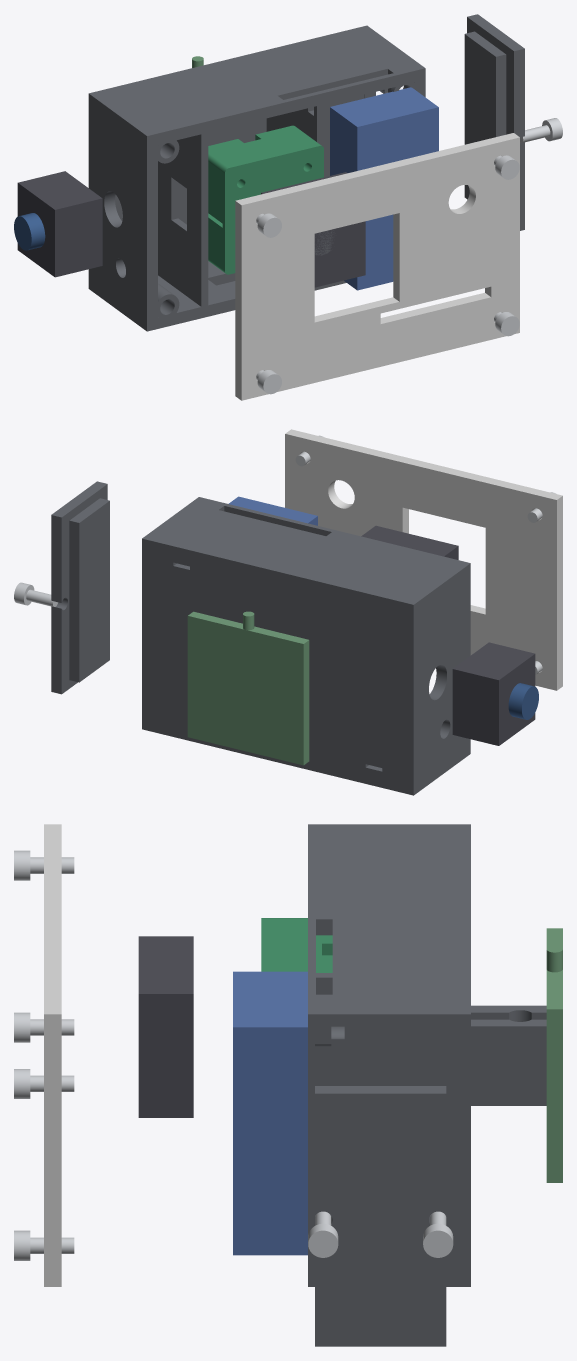
The model's file is sender_exploded.glb.
3 renders of one model, top to bottom at view 1: azimuth 30°, elevation 25°; view 2: azimuth 150°, elevation 25°; view 3: azimuth 270°, elevation 25°, orthographic. The views are drawn at different scales.
Parts seen in each view (by area): view 1: o1.2.1, o1.1, o1.10.1, o1.7, o1.3, o1.5.1, o1.8.1, o1.6.1, o1.17, o1.13, o1.16, o1.14 (+1 smaller); view 2: o1.1, o1.2.1, o1.4, o1.3, o1.5.1, o1.8.1, o1.6.1, o1.10.1, o1.18; view 3: o1.1, o1.3, o1.10.1, o1.8.1, o1.2.1, o1.4, o1.7, o1.18, o1.17, o1.14, o1.16, o1.15 (+1 smaller).
Boxes of the visible parts, box(x1,y1,x2,y2) form: o1.2.1: box(235, 133, 519, 400); o1.1: box(88, 25, 425, 331); o1.10.1: box(330, 87, 438, 290); o1.7: box(208, 125, 323, 274); o1.3: box(464, 14, 524, 230); o1.5.1: box(17, 171, 102, 277); o1.8.1: box(261, 172, 365, 287); o1.6.1: box(14, 213, 45, 250); o1.17: box(520, 118, 562, 142); o1.13: box(256, 370, 281, 394); o1.16: box(494, 155, 519, 179); o1.14: box(256, 213, 281, 237); o1.1: box(142, 497, 470, 795); o1.2.1: box(285, 429, 562, 690); o1.4: box(187, 611, 309, 765); o1.3: box(51, 481, 109, 694); o1.5.1: box(452, 642, 535, 745); o1.8.1: box(361, 525, 458, 559); o1.6.1: box(508, 683, 538, 719); o1.10.1: box(228, 496, 317, 525); o1.18: box(14, 582, 57, 606); o1.1: box(308, 824, 546, 1286); o1.3: box(315, 1086, 446, 1346); o1.10.1: box(233, 971, 307, 1255); o1.8.1: box(138, 936, 193, 1117); o1.2.1: box(44, 824, 61, 1286); o1.4: box(546, 928, 562, 1182); o1.7: box(261, 918, 332, 972); o1.18: box(423, 1211, 453, 1257); o1.17: box(308, 1211, 338, 1257); o1.14: box(14, 850, 74, 880); o1.16: box(14, 1012, 74, 1042); o1.15: box(14, 1230, 74, 1260).
Bounding box in the file's own units: 0.1498 × 0.055 × 0.1003.
